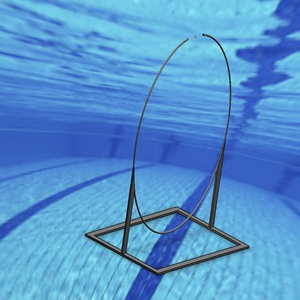circle: (85, 31, 250, 275)
